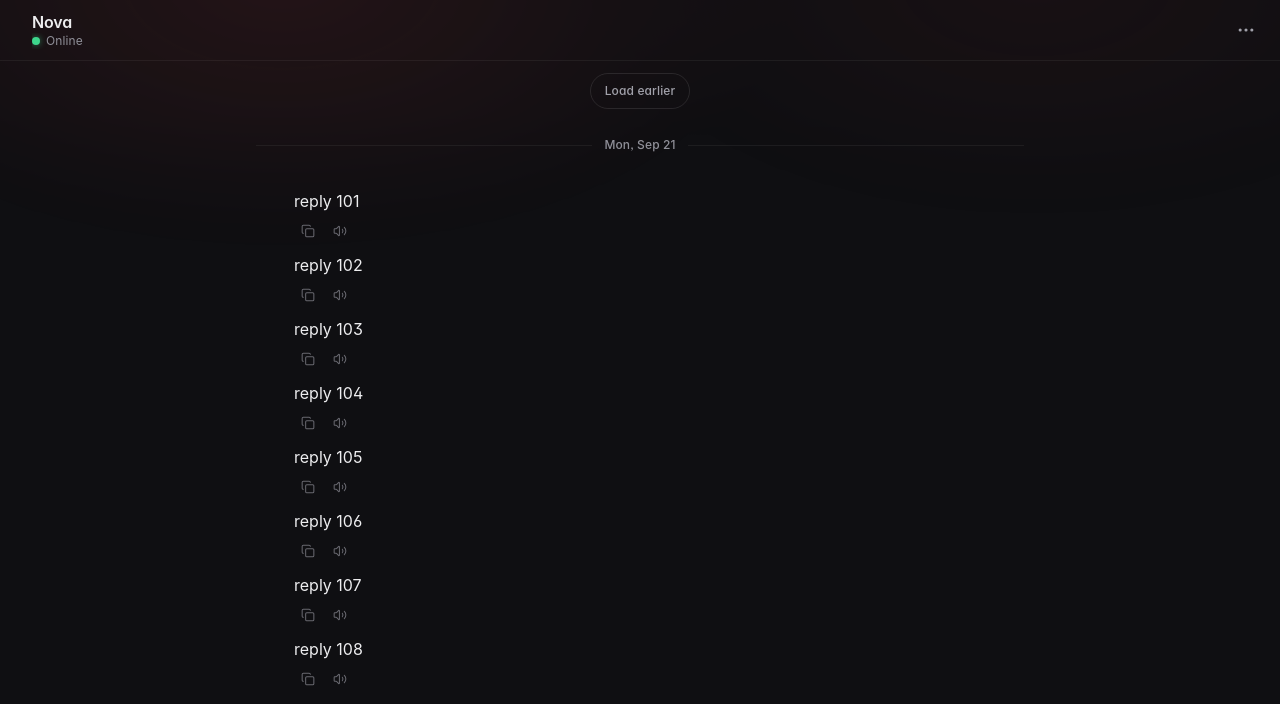
Test: Load earlier prepends older messages and says when the start is reached
What coordinates should you click on to do the following:
click the button "Load earlier"
I would click on:
 (640, 91)
Its box is top-left (590, 73), bottom-right (690, 109).
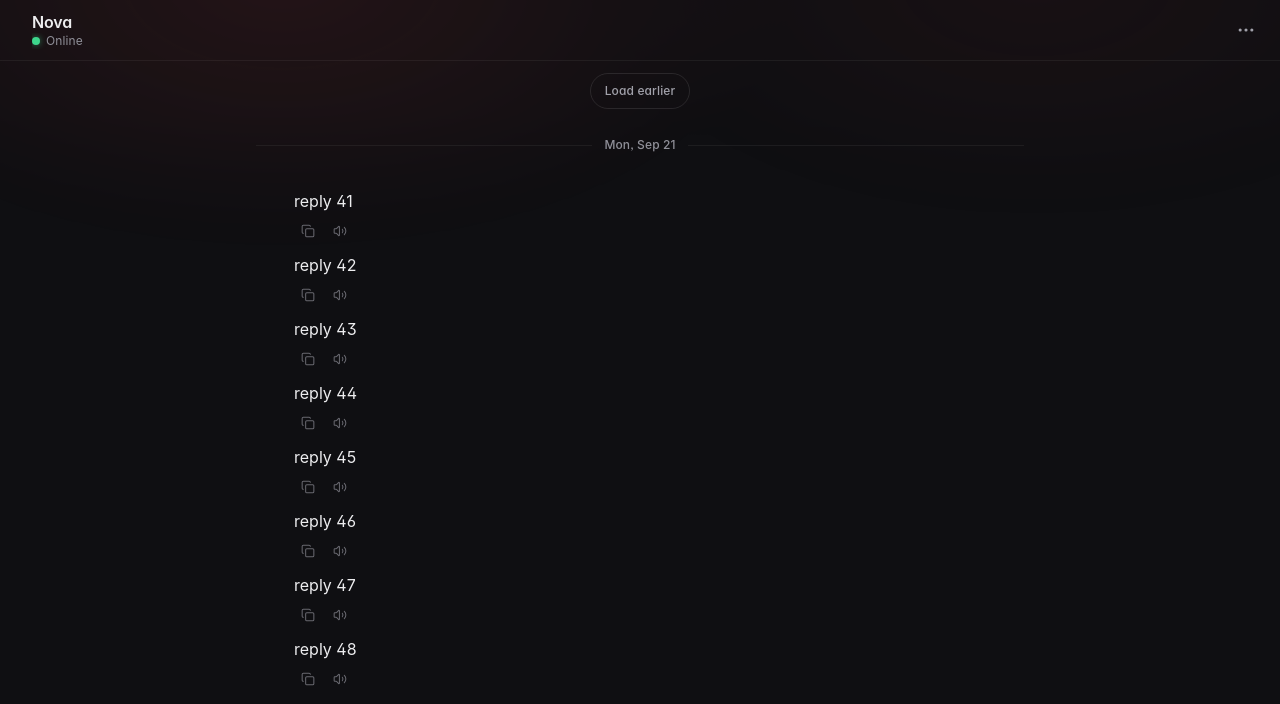
Now the text "reply 41" is shown, box top-left (294, 191), bottom-right (353, 211)
What coordinates should you click on to do the following:
click the button "Load earlier"
I would click on:
 (640, 91)
Its box is top-left (590, 73), bottom-right (690, 109).
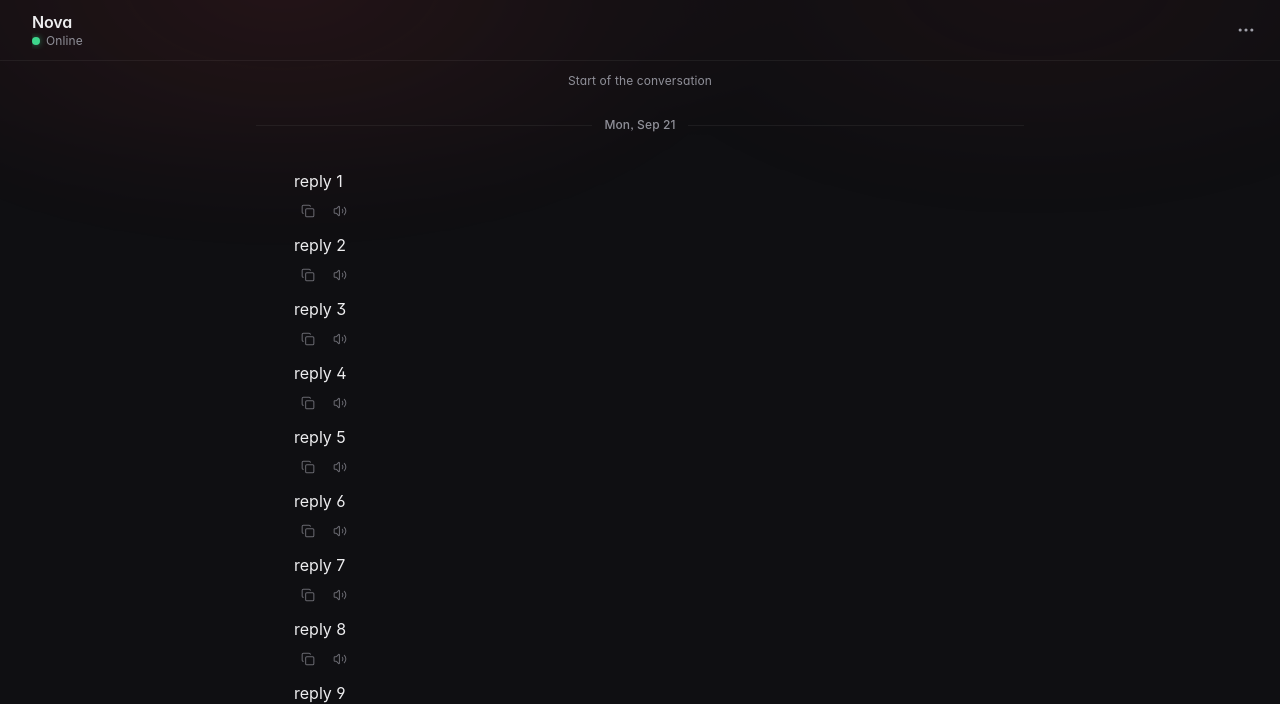
Now the text "Start of the conversation" is shown, box top-left (568, 73), bottom-right (712, 88)
Now the text "reply 1" is shown, box top-left (294, 171), bottom-right (343, 191)
